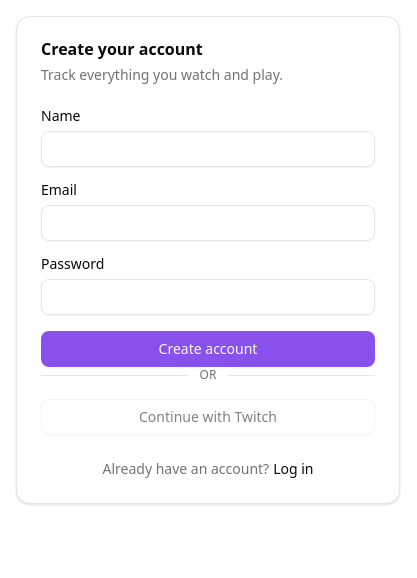
Test: RegisterPage › FORBIDDEN (registro deshabilitado): error de formulario explícito, no ErrorState
Type "New Person" into the field labelled "Name" at (208, 149), box x1=41 y1=131 x2=375 y2=167
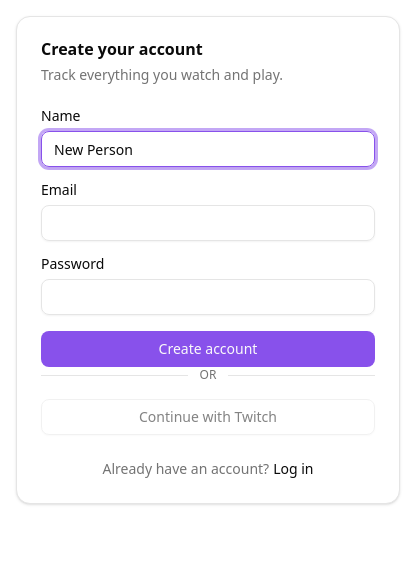
Type "newperson@example.com" into the field labelled "Email" at (208, 223), box x1=41 y1=205 x2=375 y2=241
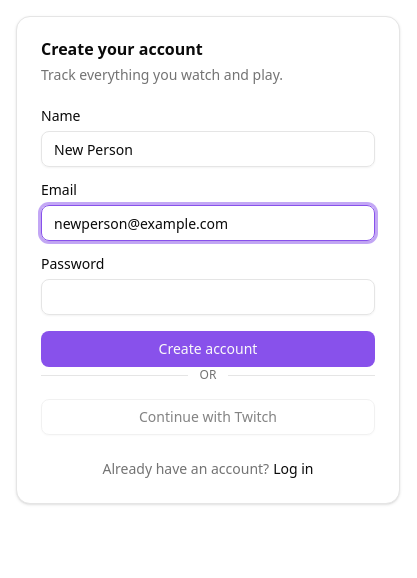
Type "password123" into the password field labelled "Password" at (208, 297), box x1=41 y1=279 x2=375 y2=315
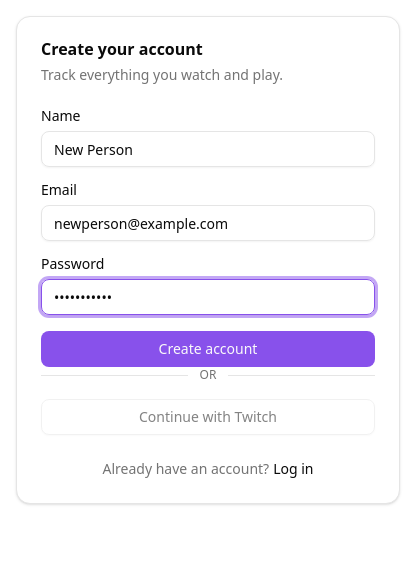
Click the button "Create account" at (208, 349), box x1=41 y1=331 x2=375 y2=367
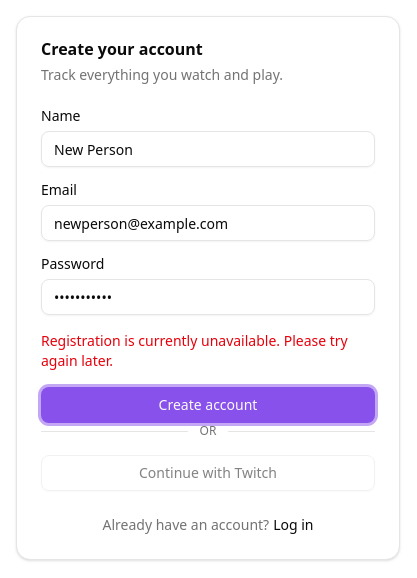
expect the text "Registration is currently unavailable. Please try again later." is shown: met, box x1=41 y1=331 x2=375 y2=371
